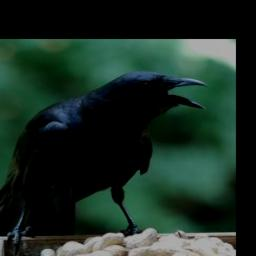Crow: (0, 70, 208, 255)
